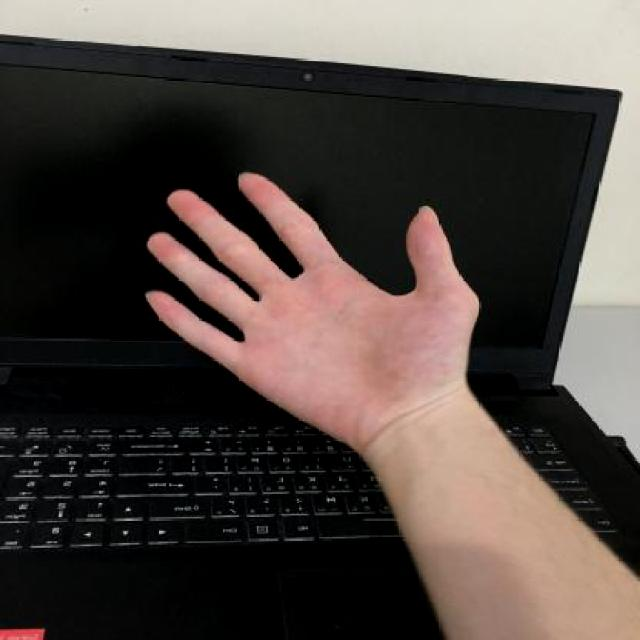no_glove: (130, 161, 493, 459)
